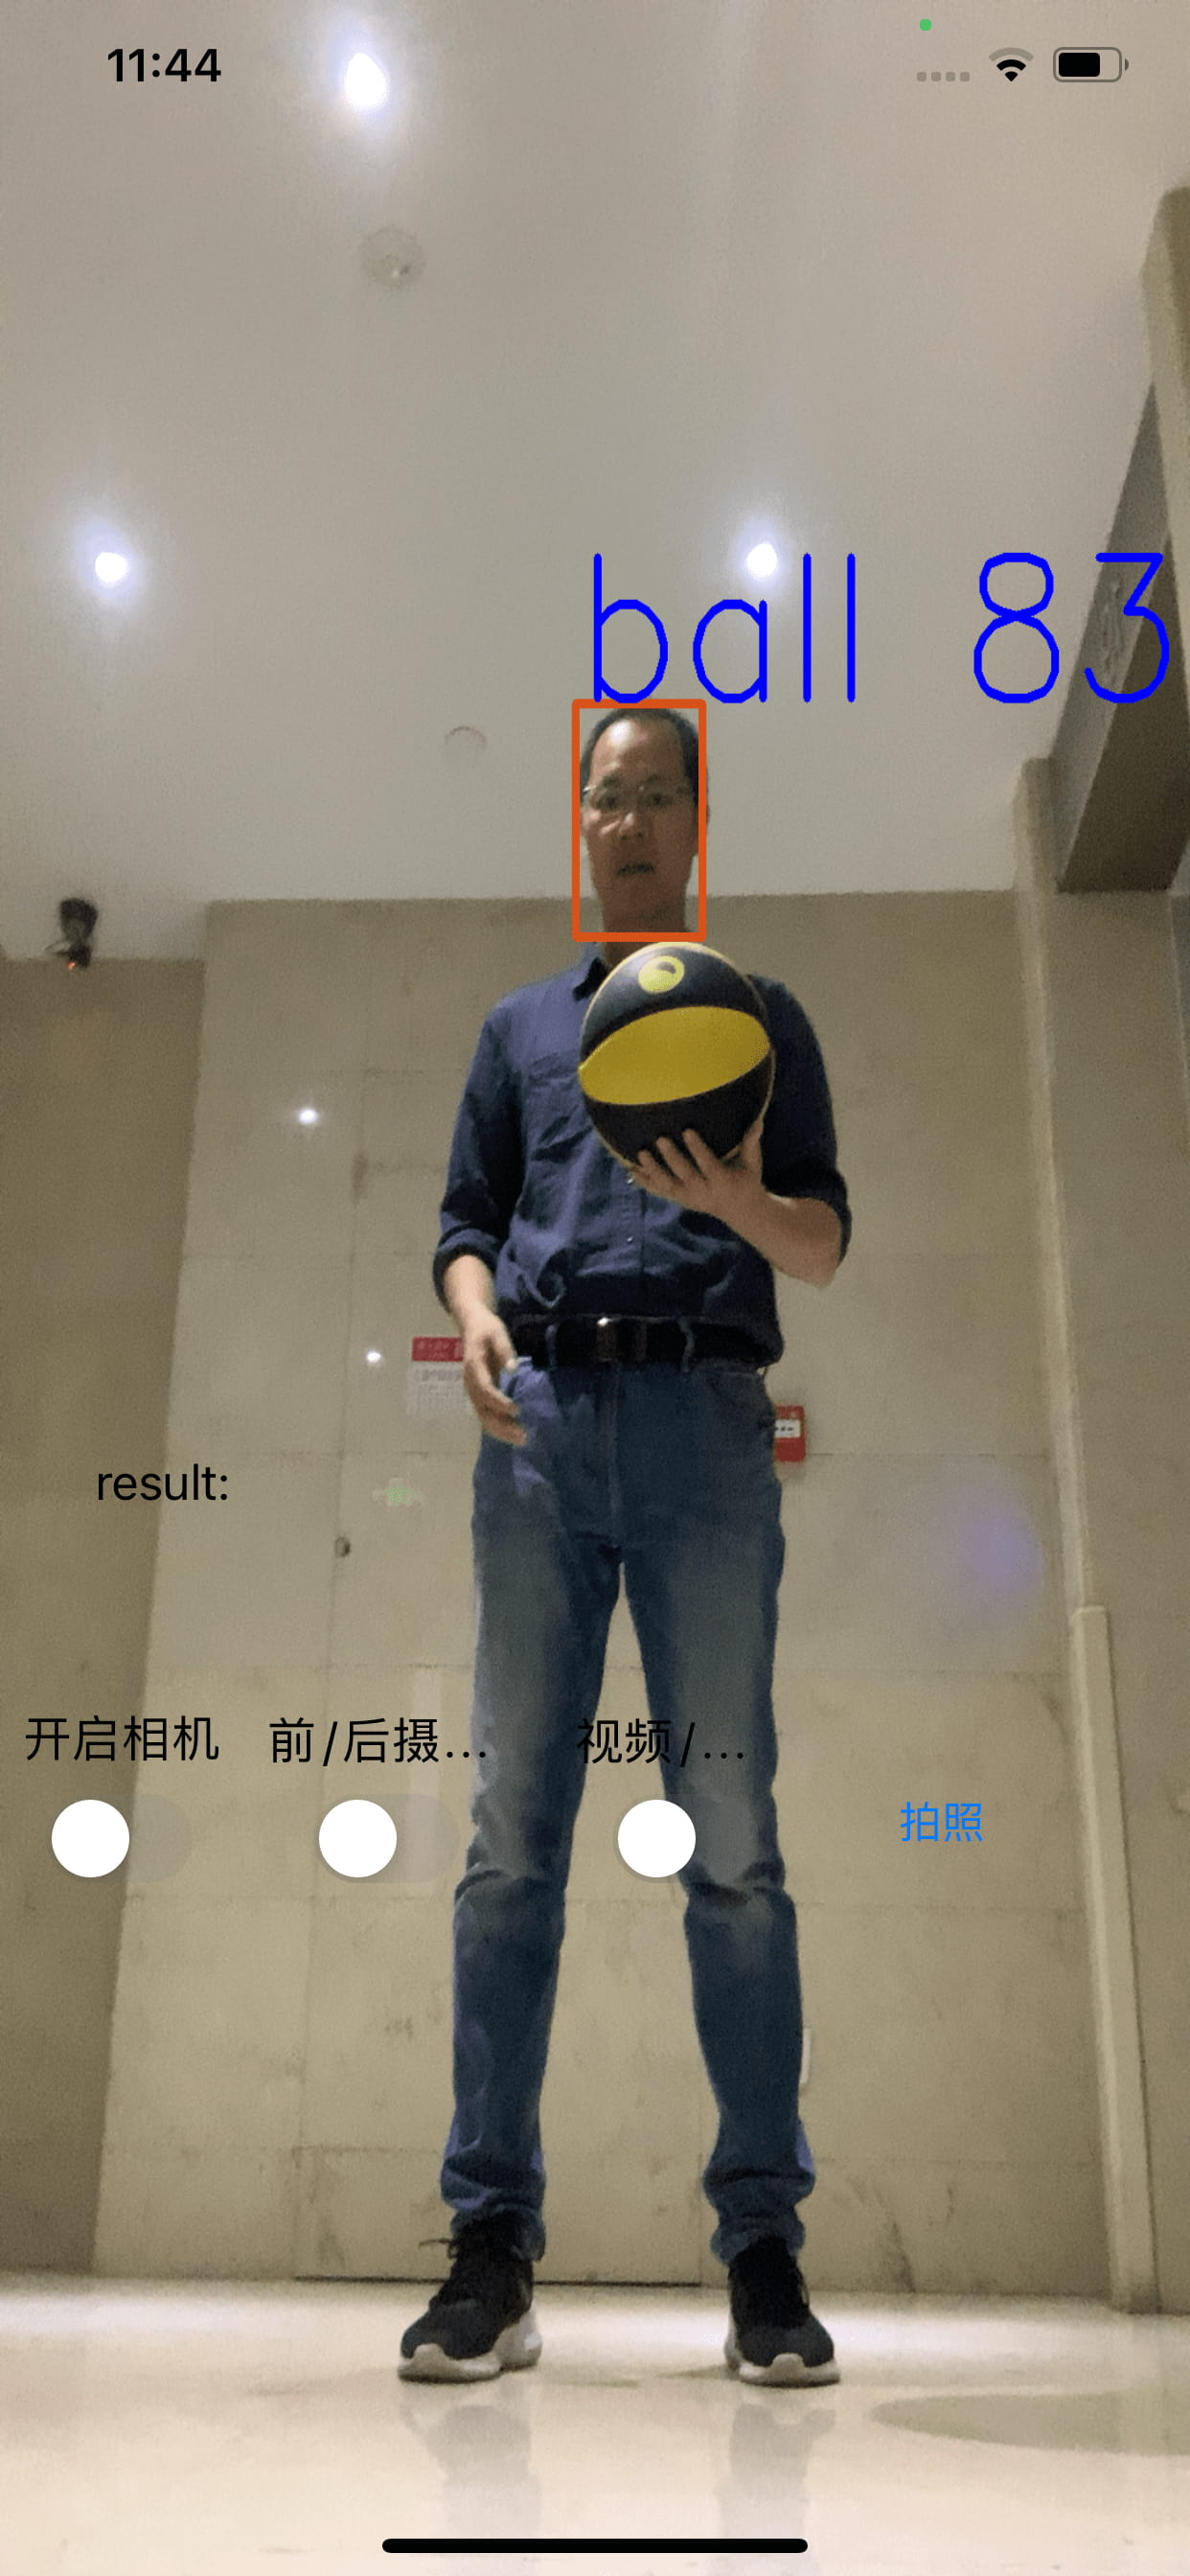ball: (574, 945, 773, 1170)
